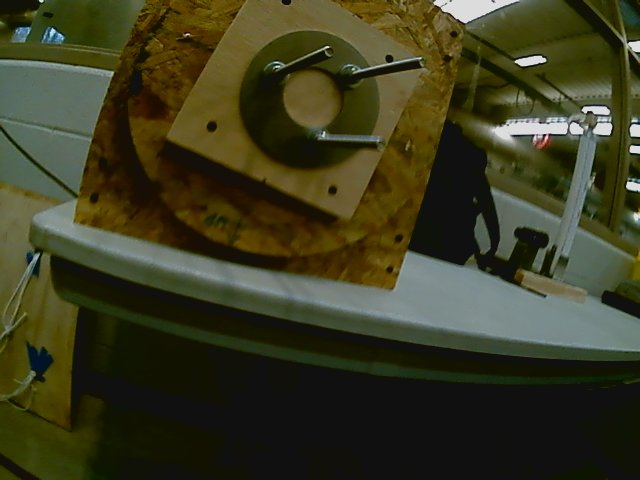bolt: (320, 42, 337, 60), (374, 134, 389, 153), (416, 55, 429, 70)
